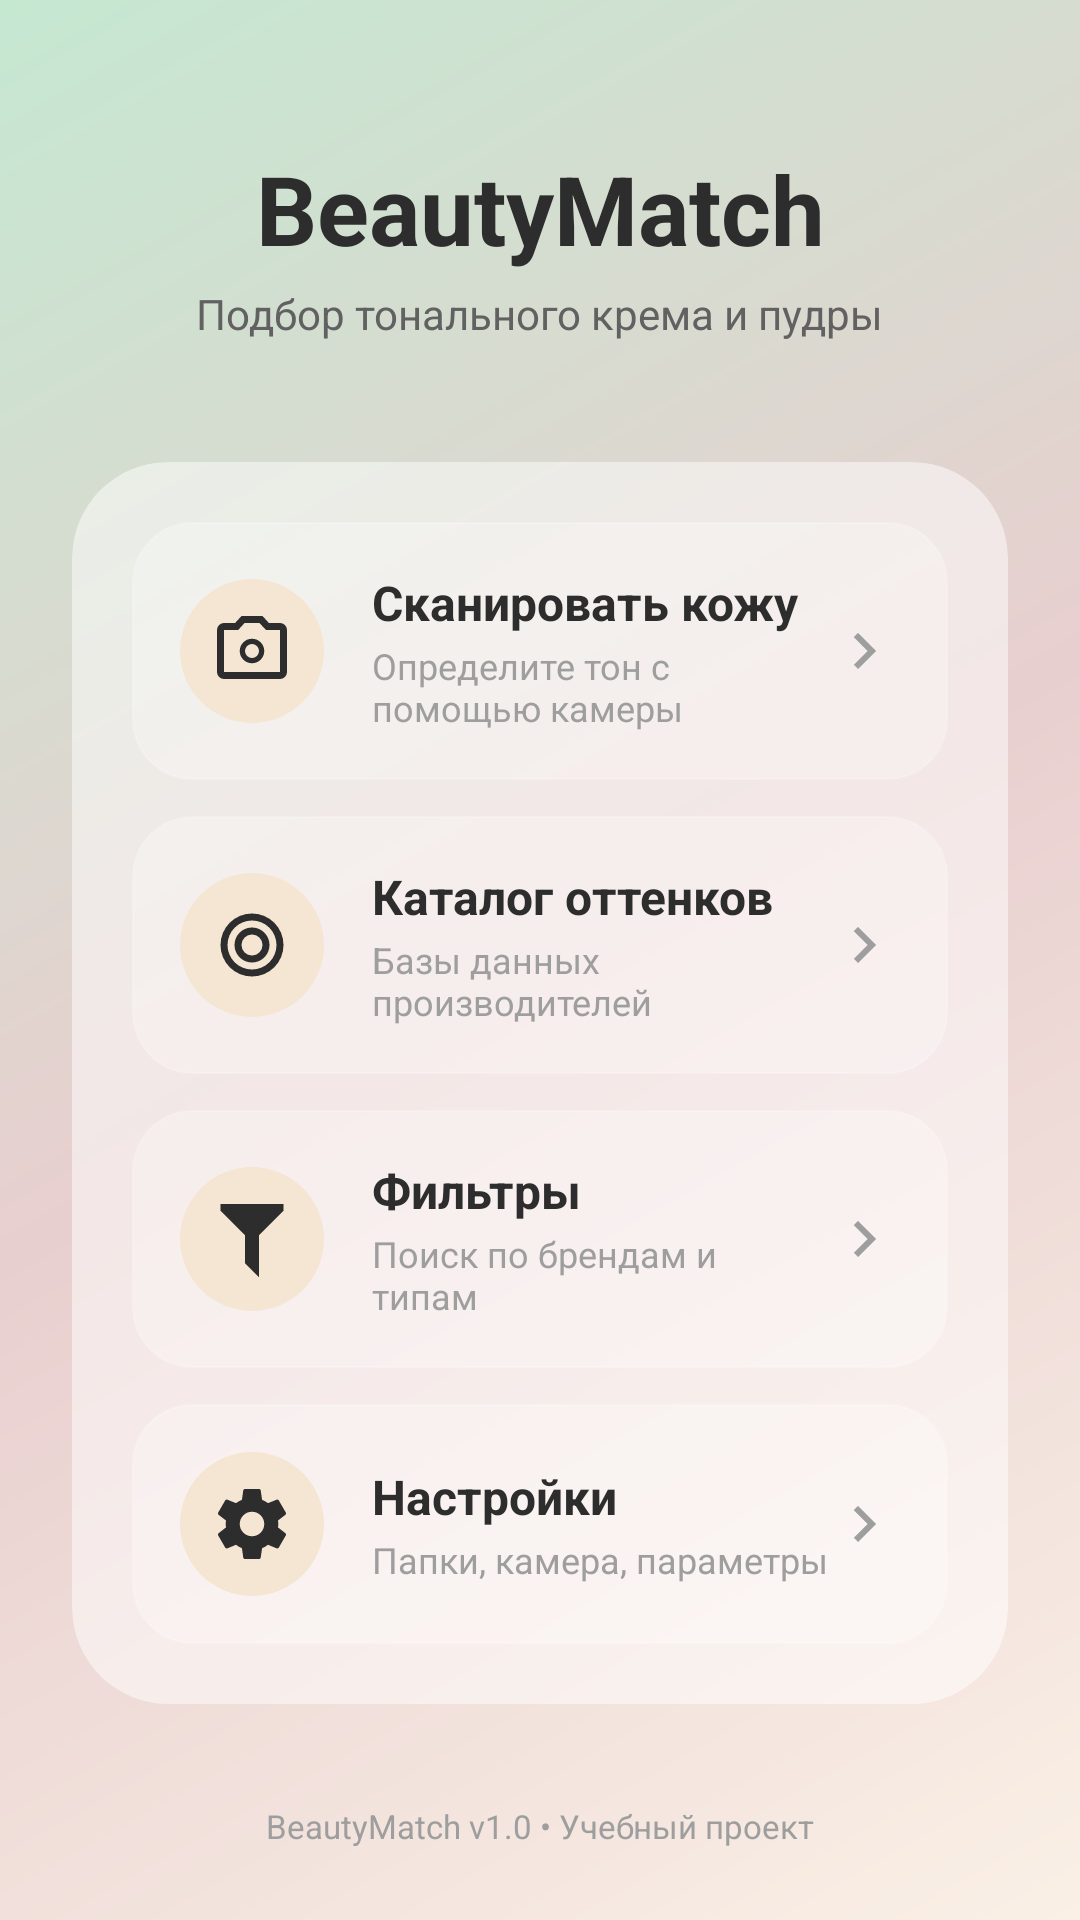

Icons on this 1080×1920 Android screen, each with the point to tap as (x=x, y=y):
camera: (x=252, y=651)
chevron right: (x=865, y=651), (x=865, y=945), (x=865, y=1239), (x=865, y=1524)
filter: (x=252, y=1239)
settings: (x=252, y=1524)
